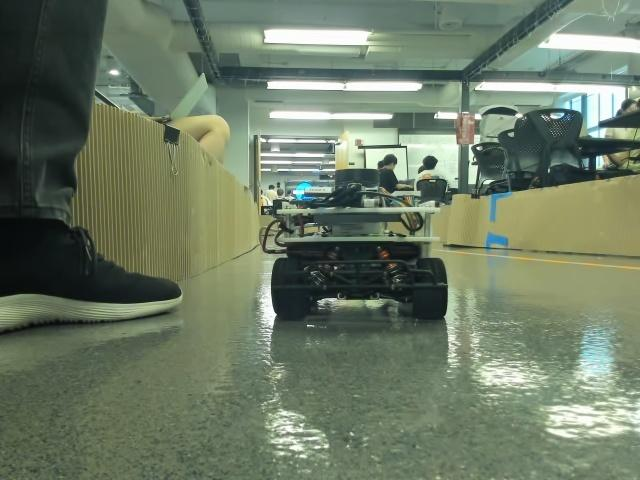Car: (267, 168, 447, 320)
